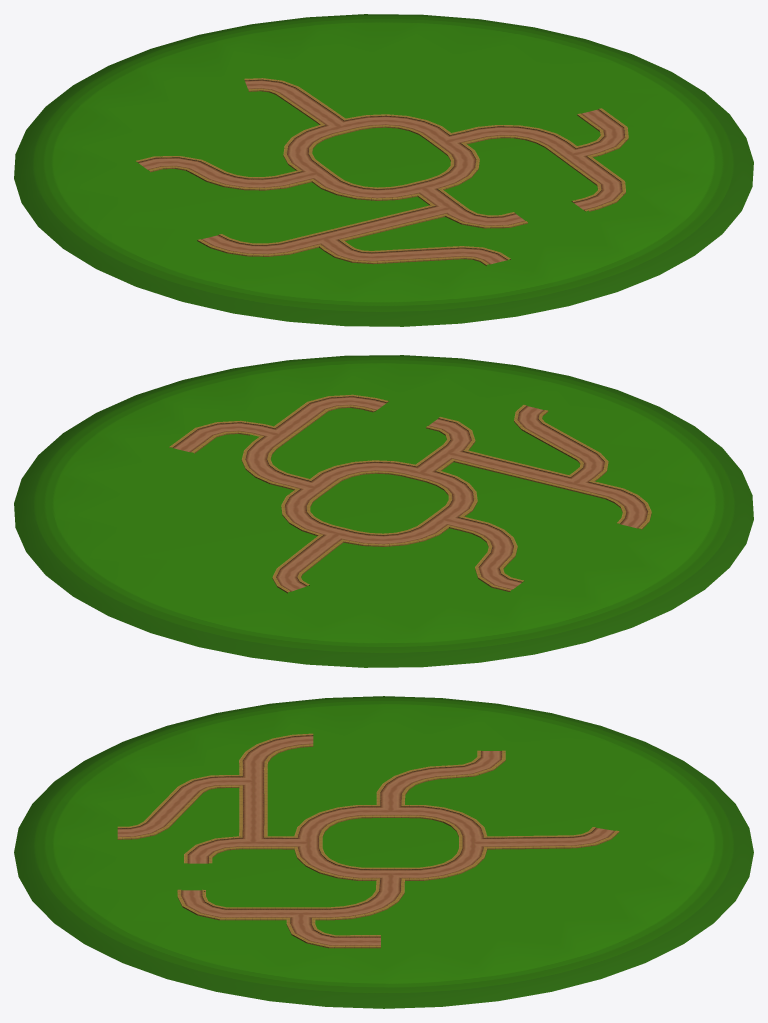
The model's file is Uskrs samo pod 18. april.fbx.
The picture shows the model from 3 angles, top to bottom: view 1: azimuth 30°, elevation 25°; view 2: azimuth 150°, elevation 25°; view 3: azimuth 270°, elevation 25°; orthographic projection.
Parts seen in each view (by area): view 1: Pod; view 2: Pod; view 3: Pod.
Boxes of the visible parts, left/top/right/bottom form: Pod: left=14, top=14, right=753, bottom=326; Pod: left=14, top=355, right=753, bottom=667; Pod: left=14, top=696, right=753, bottom=1008.
Bounding box in the file's own units: 4265 × 68.2 × 4265.
Materials: 2 (2 with a texture image).
